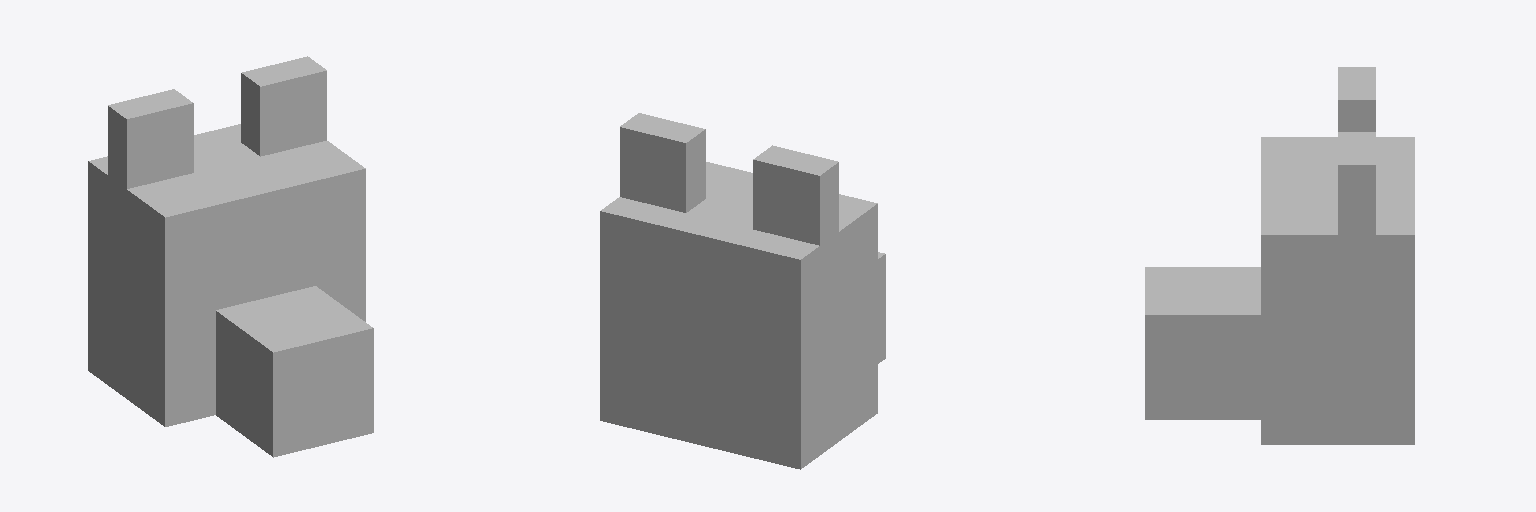
File: Head.obj
3 views of the same model, side by side, from view 1: azimuth 30°, elevation 25°; view 2: azimuth 150°, elevation 25°; view 3: azimuth 270°, elevation 25° (orthographic).
Parts seen in each view (by area): view 1: Head; view 2: Head; view 3: Head.
Boxes of the visible parts, x1,y1,x2,y2 form: Head: [88, 56, 373, 457]; Head: [600, 113, 885, 469]; Head: [1145, 67, 1414, 444].
Size of the model in its own units: 6 by 8 by 7.